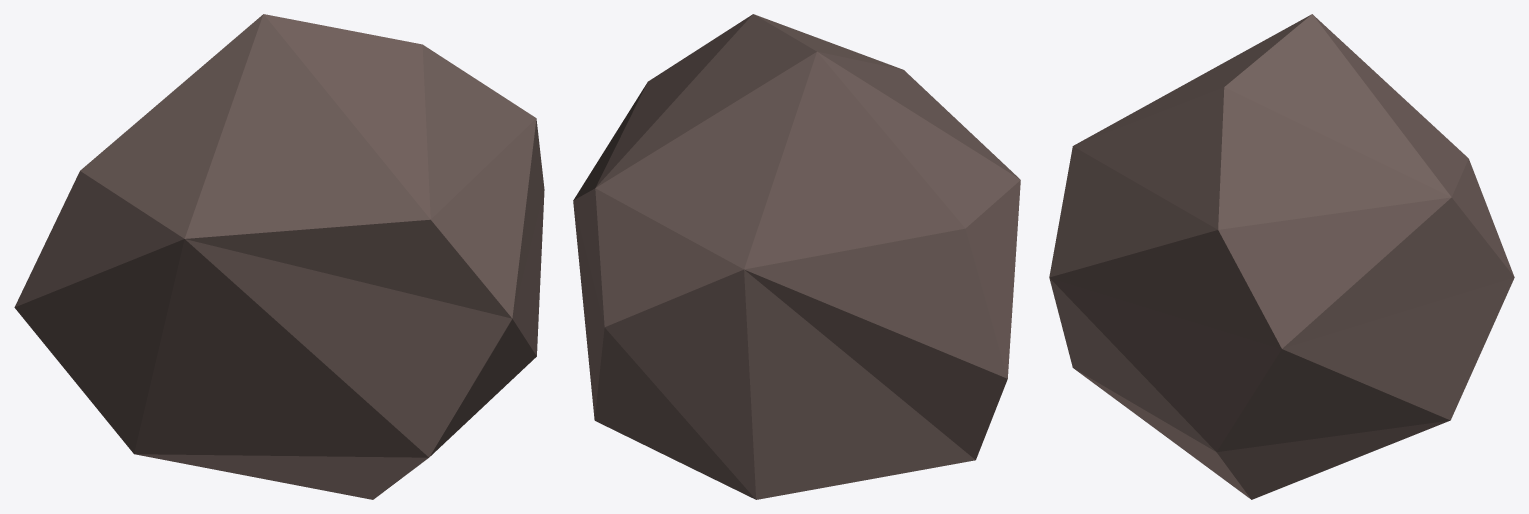
The model's file is PhysicsAsteroid.dae.
3 renders of one model, left to right at view 1: azimuth 30°, elevation 25°; view 2: azimuth 150°, elevation 25°; view 3: azimuth 270°, elevation 25°, orthographic. The views are drawn at different scales.
Parts seen in each view (by area): view 1: Icosphere; view 2: Icosphere; view 3: Icosphere.
Part boxes in pixels (bbox=[...]): Icosphere: bbox=[14, 14, 544, 499]; Icosphere: bbox=[573, 14, 1020, 499]; Icosphere: bbox=[1049, 14, 1514, 499].
Size of the model in its own units: 2.25 by 1.99 by 2.12.
